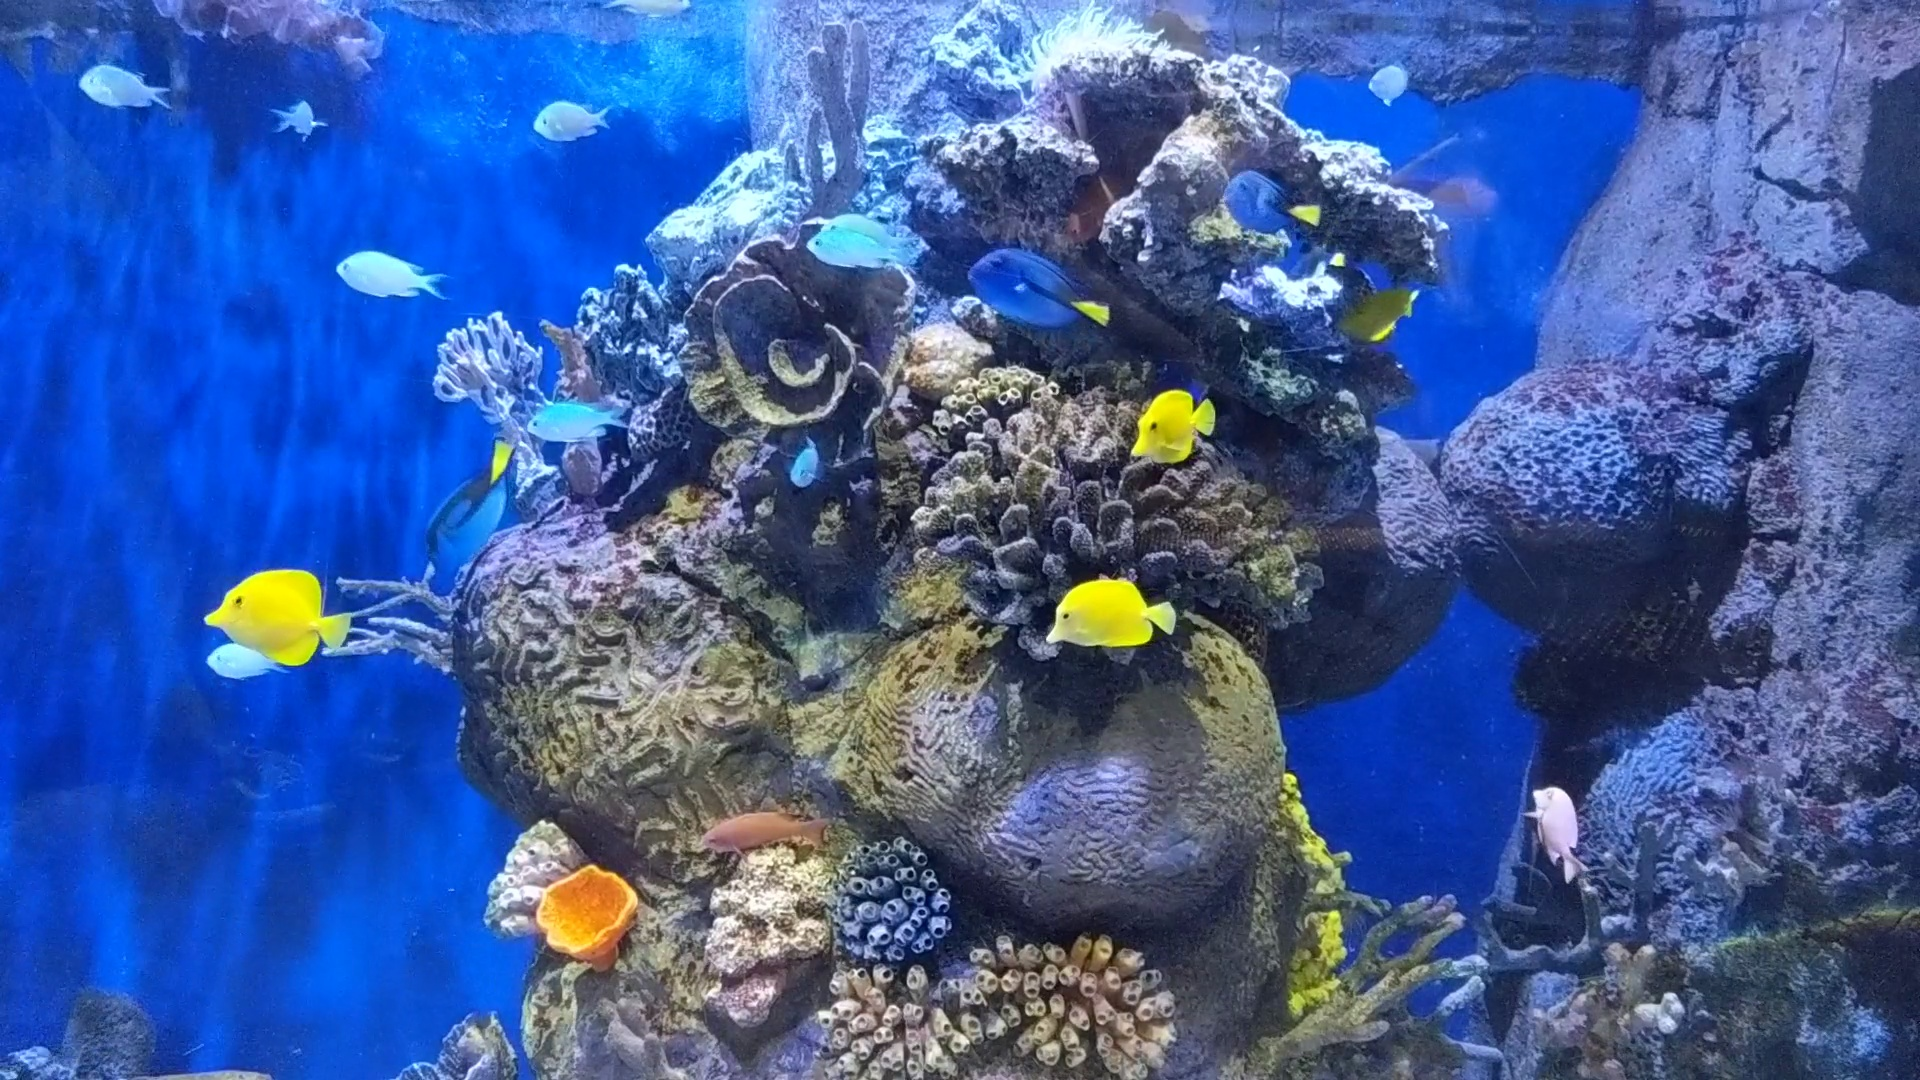blue tang surgeonfish: (398, 442, 531, 582), (965, 243, 1109, 330), (1218, 173, 1324, 241)
damselfish: (324, 231, 456, 310), (63, 55, 185, 125), (804, 214, 915, 274), (524, 388, 620, 450), (769, 430, 829, 491), (530, 98, 612, 141), (272, 83, 324, 142), (1364, 49, 1422, 99)
pink fish: (1518, 774, 1606, 877)
saddle butterfly fish: (189, 562, 363, 676), (1036, 564, 1187, 662), (1124, 382, 1226, 469)
